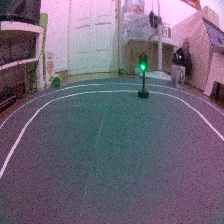green: (137, 52, 153, 100)
